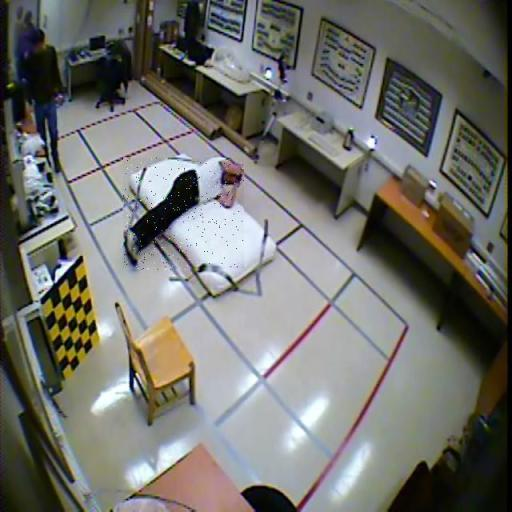Fall: (123, 159, 244, 271)
